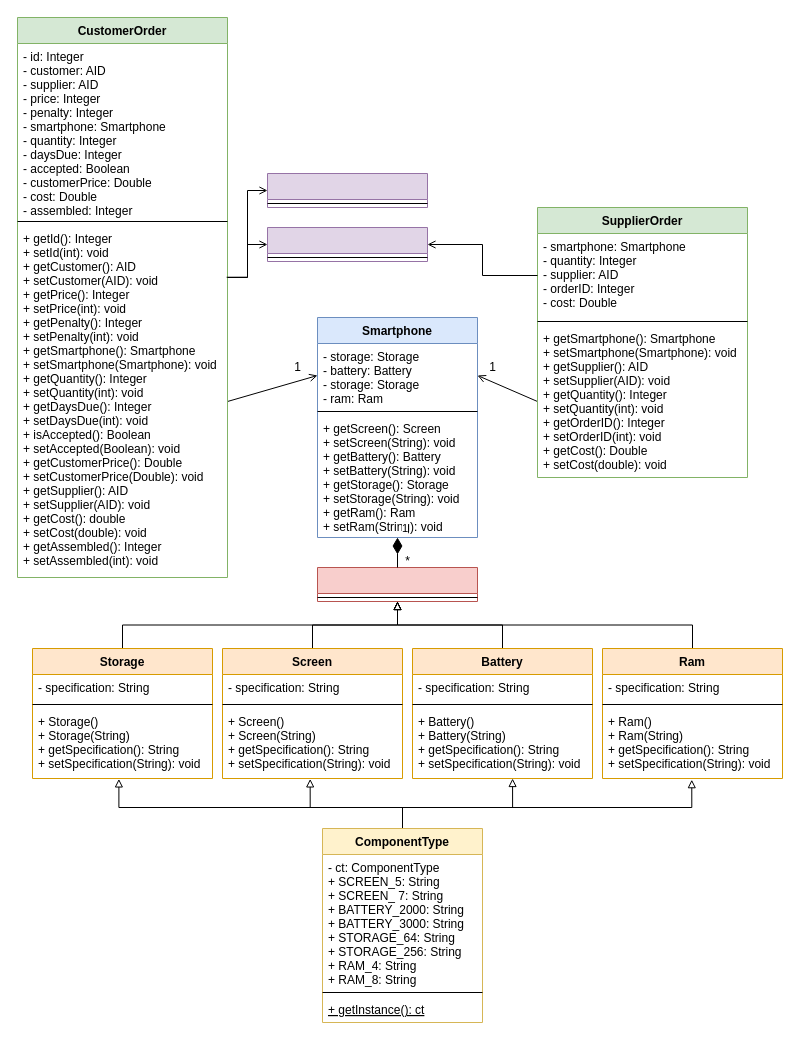
This 800x1043 diagram has some shape labels left out. Here are the shapes that lost their labels. From the top down, the centre of each, then its label:
At (347,190): "Customer".
At (347,244): "Supplier".
At (397,584): "SmartphoneComponent".
